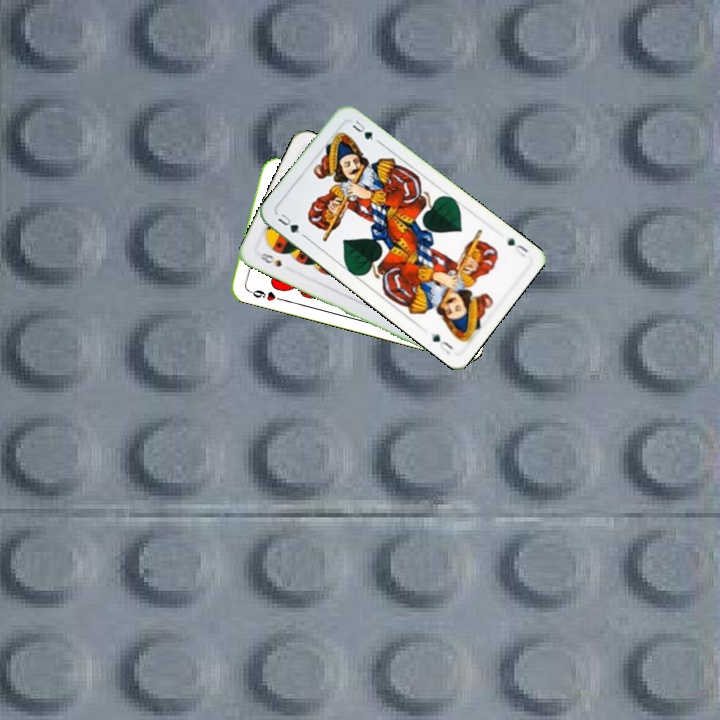GU: (274, 209, 302, 236), (503, 234, 531, 260)
H9: (244, 285, 284, 304)
S8: (256, 249, 284, 270)
